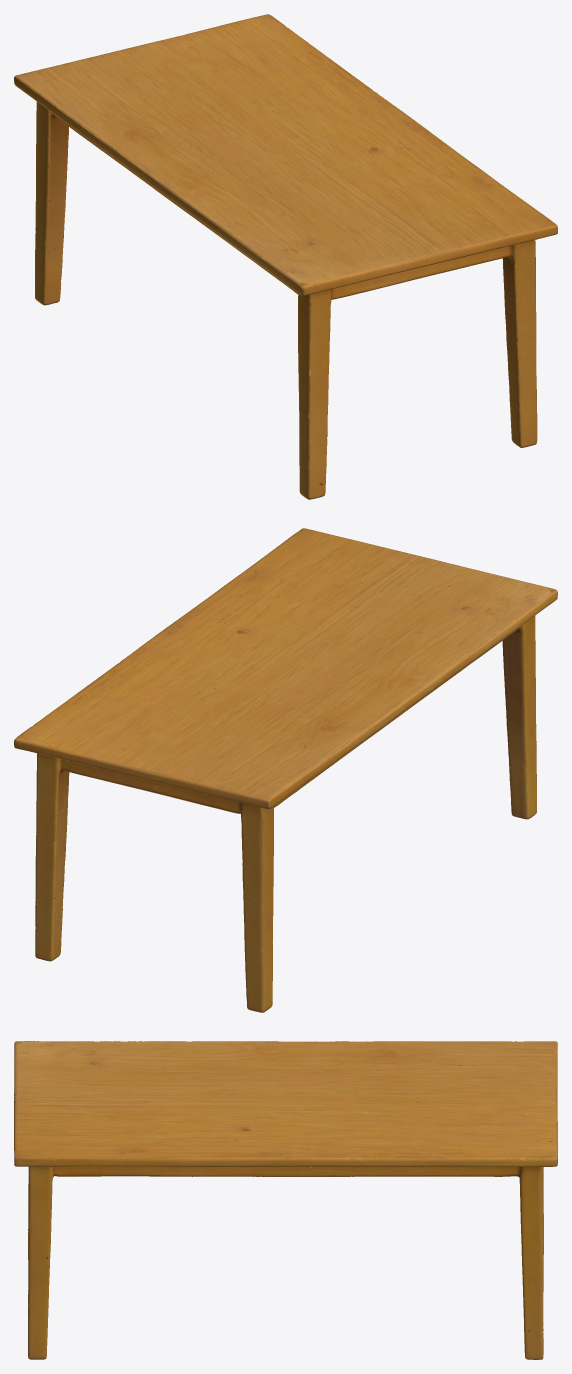
The model's file is Oak dining table.glb.
3 renders of one model, top to bottom at view 1: azimuth 30°, elevation 25°; view 2: azimuth 150°, elevation 25°; view 3: azimuth 270°, elevation 25°, orthographic. The views are drawn at different scales.
Size of the model in its own units: 1.02 by 0.8504 by 2.
1 material, 1 textured.
